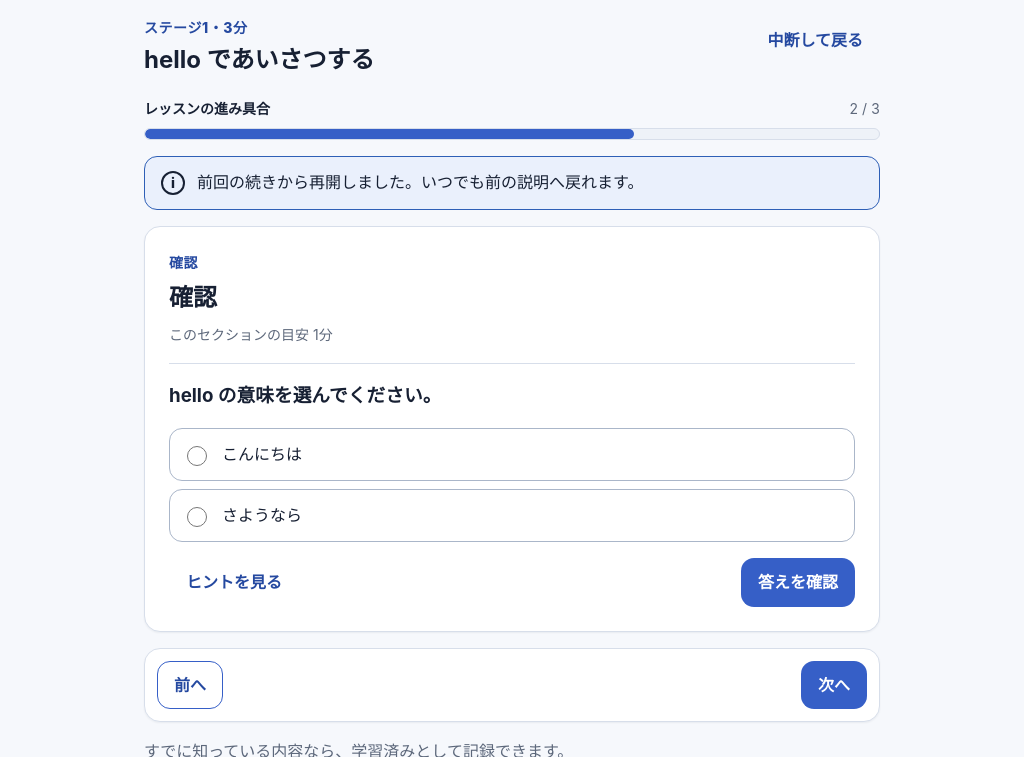
Test: レッスンレンダラー › 段階ヒントの使用数と採点結果をcallbackへ渡す
The width and height of the screenshot is (1024, 757).
Expected: the heading named "helloの意味を選んでください。" is shown, top-left (169, 384), bottom-right (441, 407)
Click the button "ヒントを見る".
click(234, 582)  # box top-left (169, 558), bottom-right (299, 607)
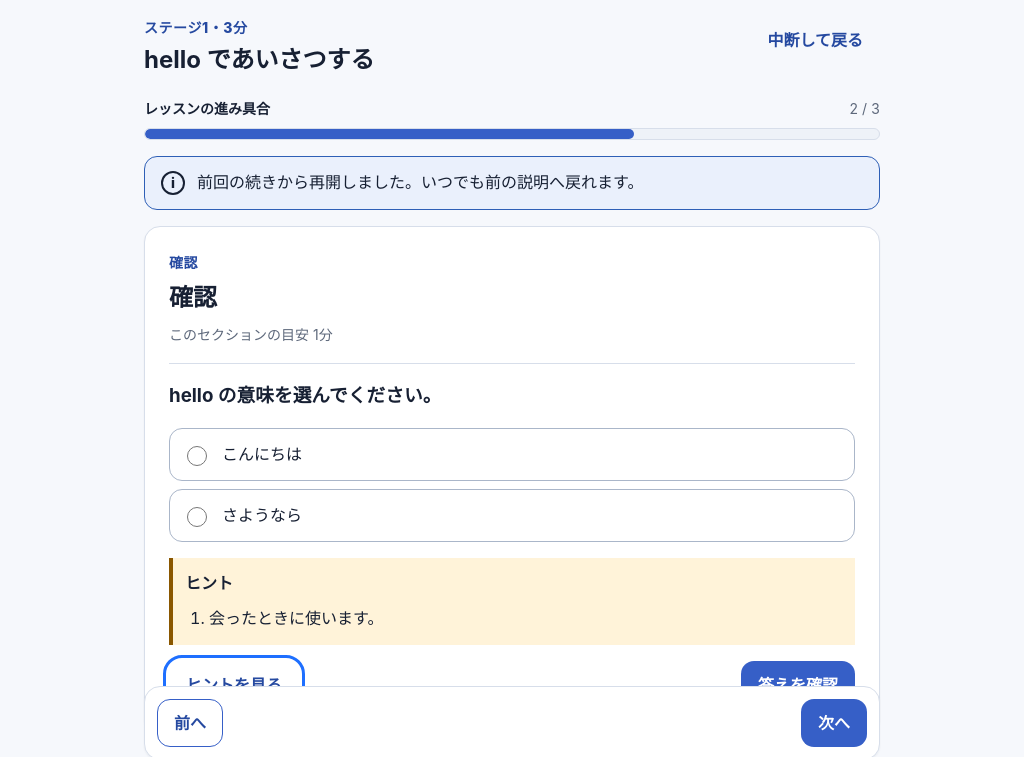
Now the list item "会ったときに使います。" is shown, box top-left (209, 608), bottom-right (383, 628)
Click the radio button labelled "こんにちは".
click(197, 456)  # box top-left (187, 446), bottom-right (207, 466)
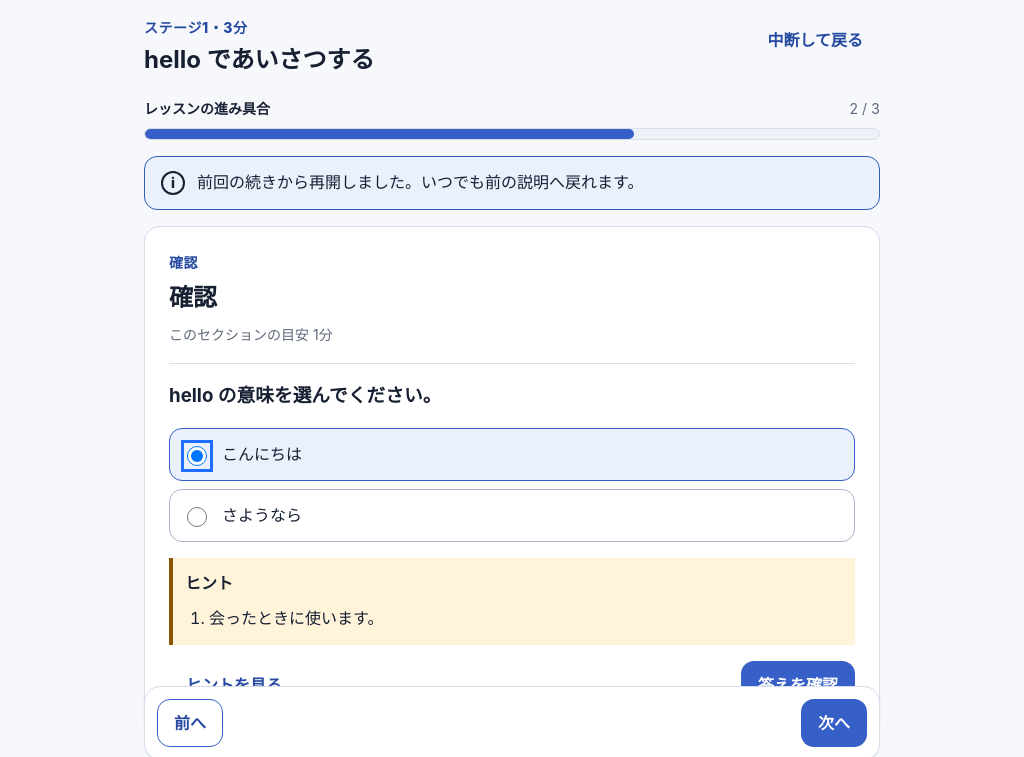
Click the button "答えを確認".
click(798, 685)  # box top-left (741, 660), bottom-right (855, 709)
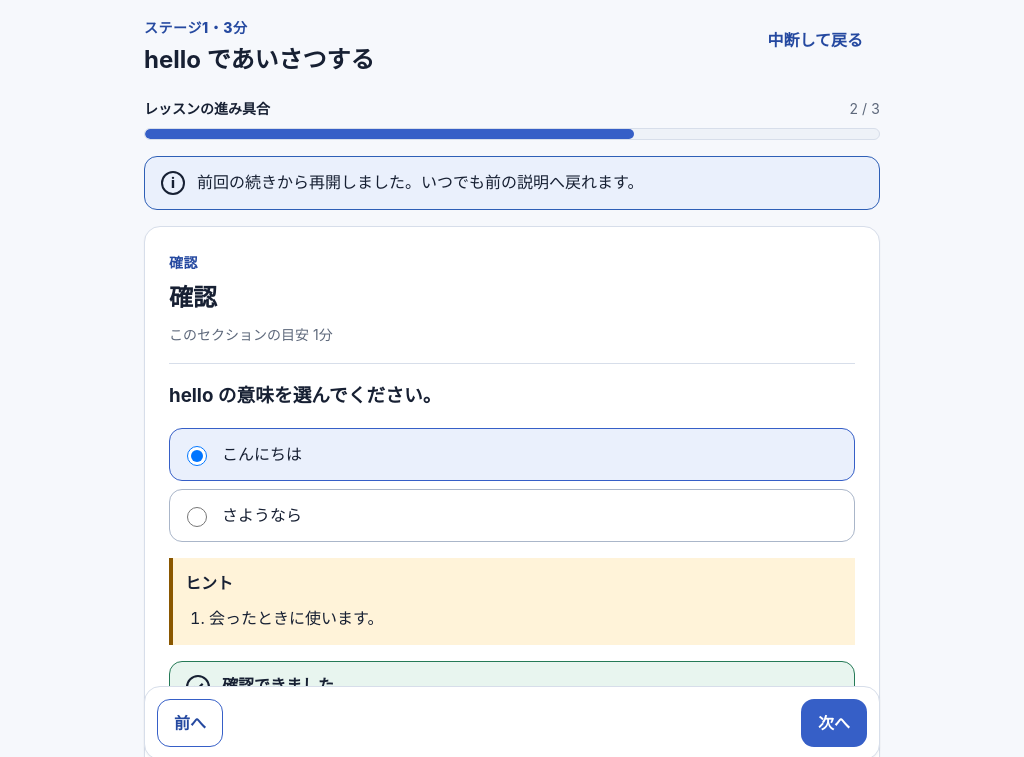
Now the text "確認できました" is shown, box top-left (222, 674), bottom-right (334, 694)
